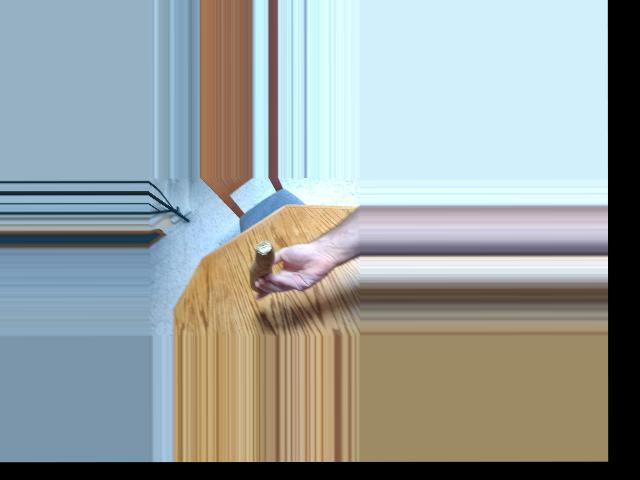sweet_potato: (247, 233, 287, 294)
